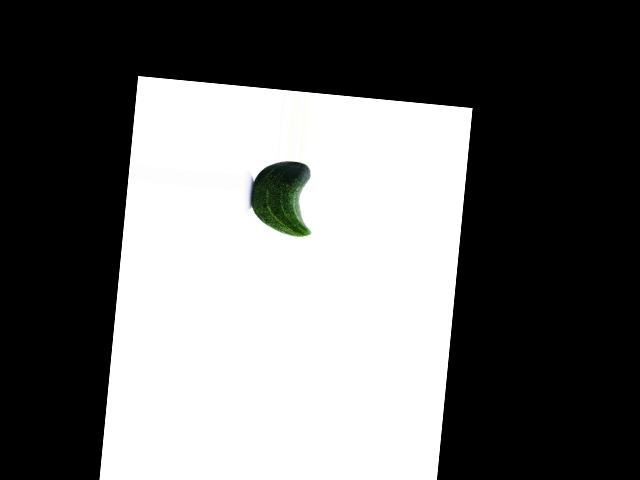cucumber: (247, 158, 317, 238)
